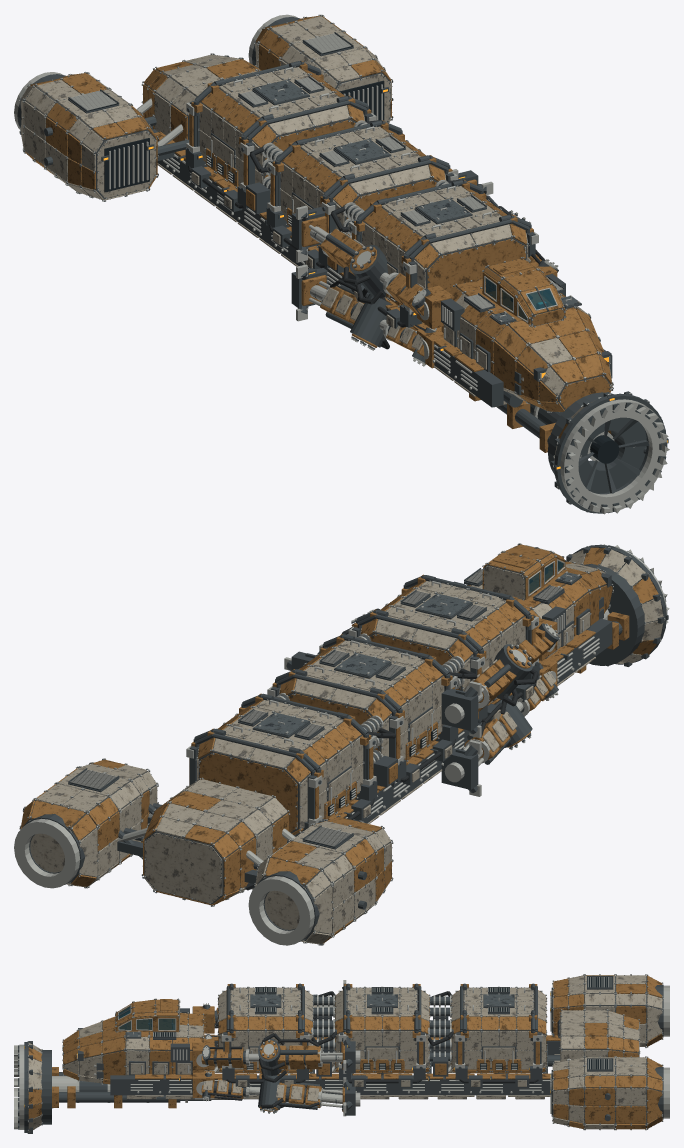
File: longwall-miner.glb
3 views of the same model, one above another, from view 1: azimuth 30°, elevation 25°; view 2: azimuth 150°, elevation 25°; view 3: azimuth 270°, elevation 25° (orthographic). The views are drawn at different scales.
Parts seen in each view (by area): view 1: hull::service-ochre, hull::pale-steel-0, hull::dark-structure, hull::machined-alloy, rotor::machined-alloy, feed::dark-structure, hull::pale-steel-1, hull::recess-black, hull::blue-grey-1, rotor::dark-structure, anchor-2-elbow::dark-structure, anchor-0-elbow::dark-structure (+3 smaller); view 2: hull::pale-steel-0, hull::service-ochre, hull::dark-structure, hull::machined-alloy, hull::pale-steel-1, feed::dark-structure, hull::blue-grey-1, feed::pale-steel-0, feed::service-ochre, anchor-0-foot::dark-structure, anchor-2-foot::dark-structure, anchor-0-lower::service-ochre (+3 smaller); view 3: hull::service-ochre, hull::pale-steel-0, hull::dark-structure, hull::machined-alloy, hull::pale-steel-1, hull::recess-black, feed::dark-structure, hull::blue-grey-1, hull::hose-rubber, rotor::machined-alloy, anchor-1-lower::service-ochre, feed::service-ochre (+18 smaller).
Boxes of the visible parts, box(x1,y1,x2,y2) form: hull::service-ochre: box(25, 15, 611, 452); hull::pale-steel-0: box(20, 16, 612, 412); hull::dark-structure: box(17, 15, 613, 443); hull::machined-alloy: box(14, 14, 634, 455); rotor::machined-alloy: box(560, 399, 669, 514); feed::dark-structure: box(547, 391, 668, 513); hull::pale-steel-1: box(21, 22, 506, 407); hull::recess-black: box(87, 39, 562, 309); hull::blue-grey-1: box(254, 79, 580, 322); rotor::dark-structure: box(564, 402, 667, 512); anchor-2-elbow::dark-structure: box(350, 294, 391, 349); anchor-0-elbow::dark-structure: box(350, 245, 387, 298); hull::pale-steel-0: box(30, 563, 611, 944); hull::service-ochre: box(20, 544, 618, 943); hull::dark-structure: box(20, 543, 622, 945); hull::machined-alloy: box(14, 543, 613, 945); hull::pale-steel-1: box(62, 764, 390, 903); feed::dark-structure: box(566, 544, 668, 666); hull::blue-grey-1: box(254, 572, 580, 736); feed::pale-steel-0: box(568, 549, 663, 663); feed::service-ochre: box(583, 547, 658, 654); anchor-0-foot::dark-structure: box(441, 686, 478, 734); anchor-2-foot::dark-structure: box(441, 745, 478, 792); anchor-0-lower::service-ochre: box(474, 659, 516, 711); hull::service-ochre: box(63, 975, 662, 1129); hull::pale-steel-0: box(63, 975, 662, 1129); hull::dark-structure: box(59, 974, 663, 1129); hull::machined-alloy: box(62, 974, 669, 1130); hull::pale-steel-1: box(126, 975, 662, 1123); hull::recess-black: box(154, 977, 612, 1116); feed::dark-structure: box(24, 1041, 52, 1133); hull::blue-grey-1: box(126, 994, 513, 1037); hull::hose-rubber: box(226, 991, 538, 1083); rotor::machined-alloy: box(14, 1044, 24, 1129); anchor-1-lower::service-ochre: box(277, 1045, 321, 1069); feed::service-ochre: box(28, 1047, 58, 1118).
Size of the model in its own units: 34 by 18.79 by 84.4.
Materials: 11 (4 with a texture image).
